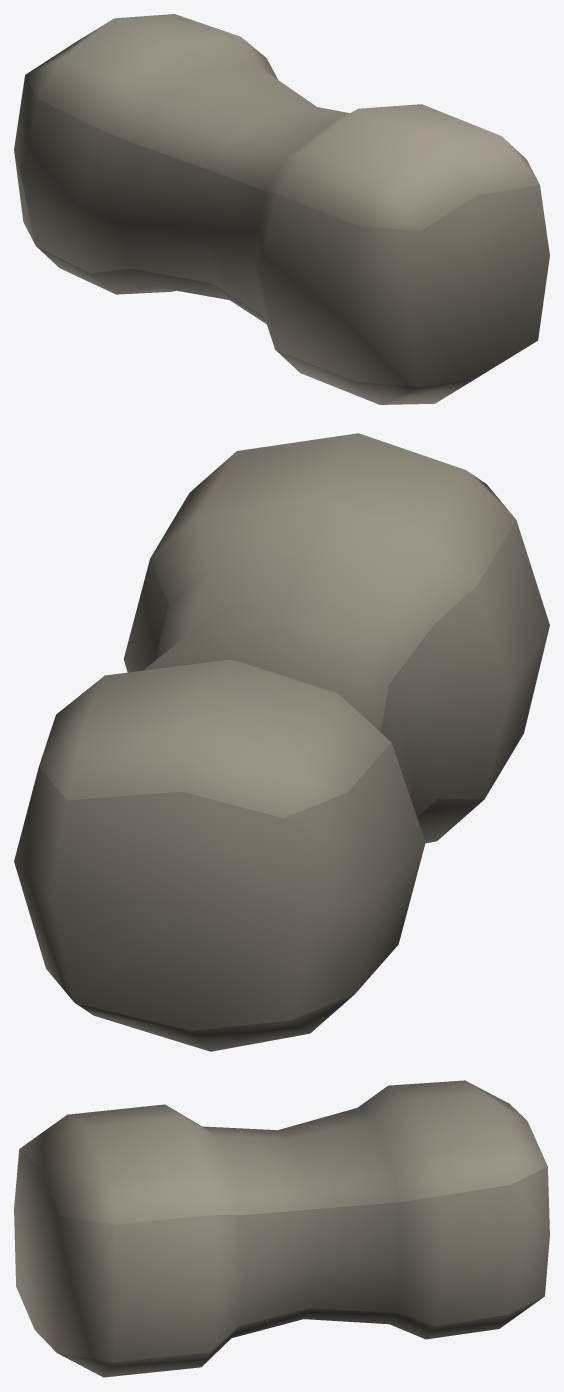
File: deco_bone_3.fbx
3 views of the same model, one above another, from view 1: azimuth 30°, elevation 25°; view 2: azimuth 150°, elevation 25°; view 3: azimuth 270°, elevation 25° (orthographic). The views are drawn at different scales.
Parts seen in each view (by area): view 1: deco_bone_3; view 2: deco_bone_3; view 3: deco_bone_3.
Part boxes in pixels (x1,y1,x2,y2): deco_bone_3: [14, 14, 549, 404]; deco_bone_3: [14, 433, 549, 1051]; deco_bone_3: [14, 1080, 549, 1377].
Bounding box in the file's own units: 28.15 × 20.81 × 42.78.
